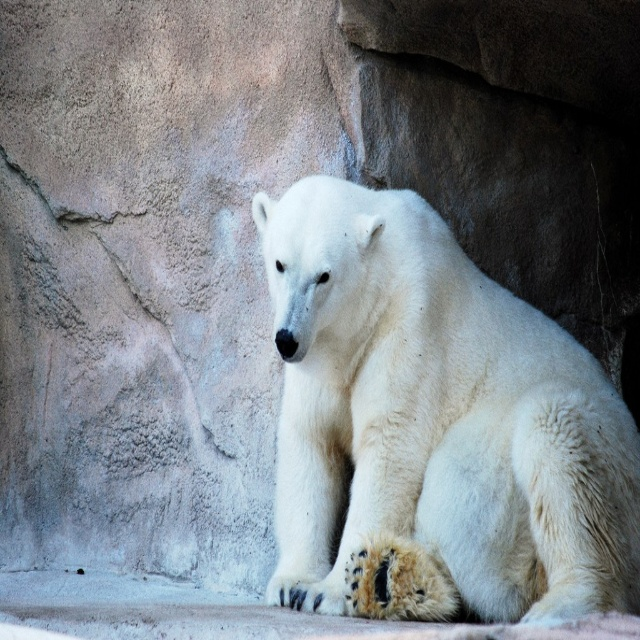Polar bear: (244, 170, 640, 640)
